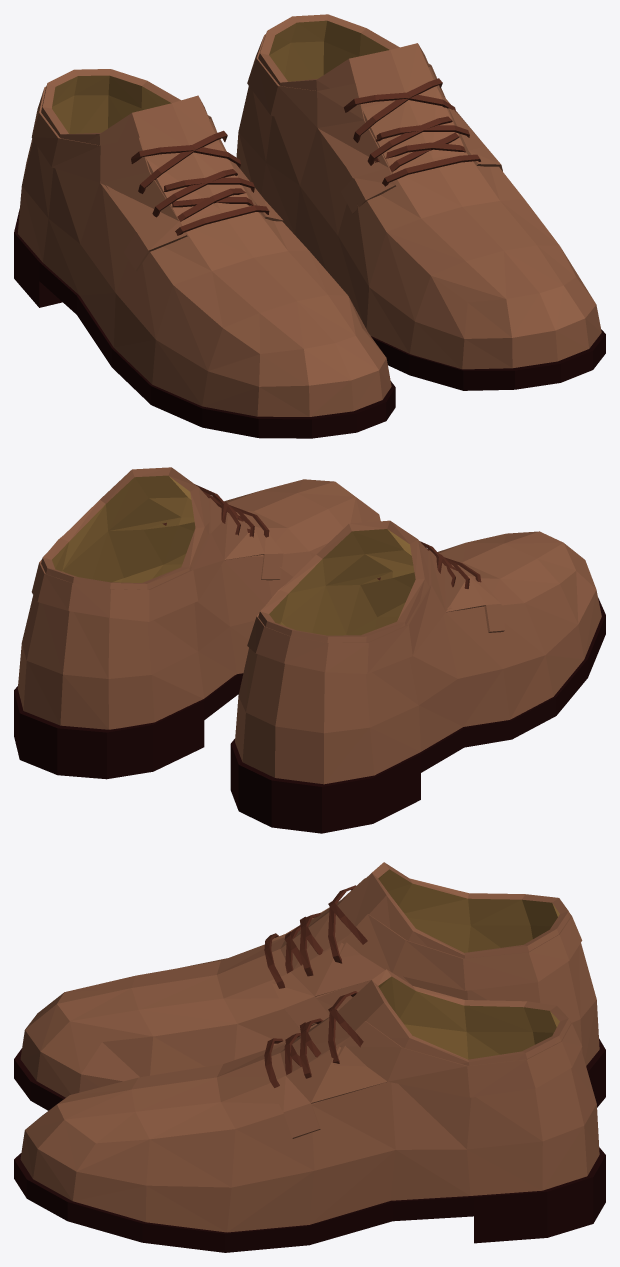
The model's file is shoePair-N8p0OEgs.glb.
3 renders of one model, top to bottom at view 1: azimuth 30°, elevation 25°; view 2: azimuth 150°, elevation 25°; view 3: azimuth 270°, elevation 25°, orthographic.
Parts seen in each view (by area): view 1: Node; view 2: Node; view 3: Node.
Part boxes in pixels (x1,y1,x2,y2): Node: [14, 14, 605, 438]; Node: [14, 467, 605, 833]; Node: [14, 862, 605, 1252].
Bounding box in the file's own units: 2.01 × 1.09 × 2.52.
